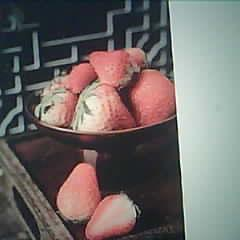straw-ripe: (76, 83, 134, 132), (58, 162, 100, 223)
